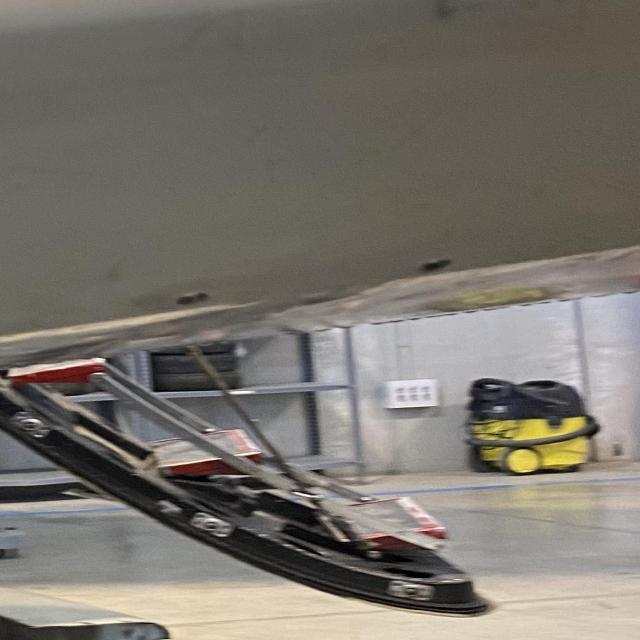Missing-head: (176, 291, 211, 308), (420, 258, 456, 274)
